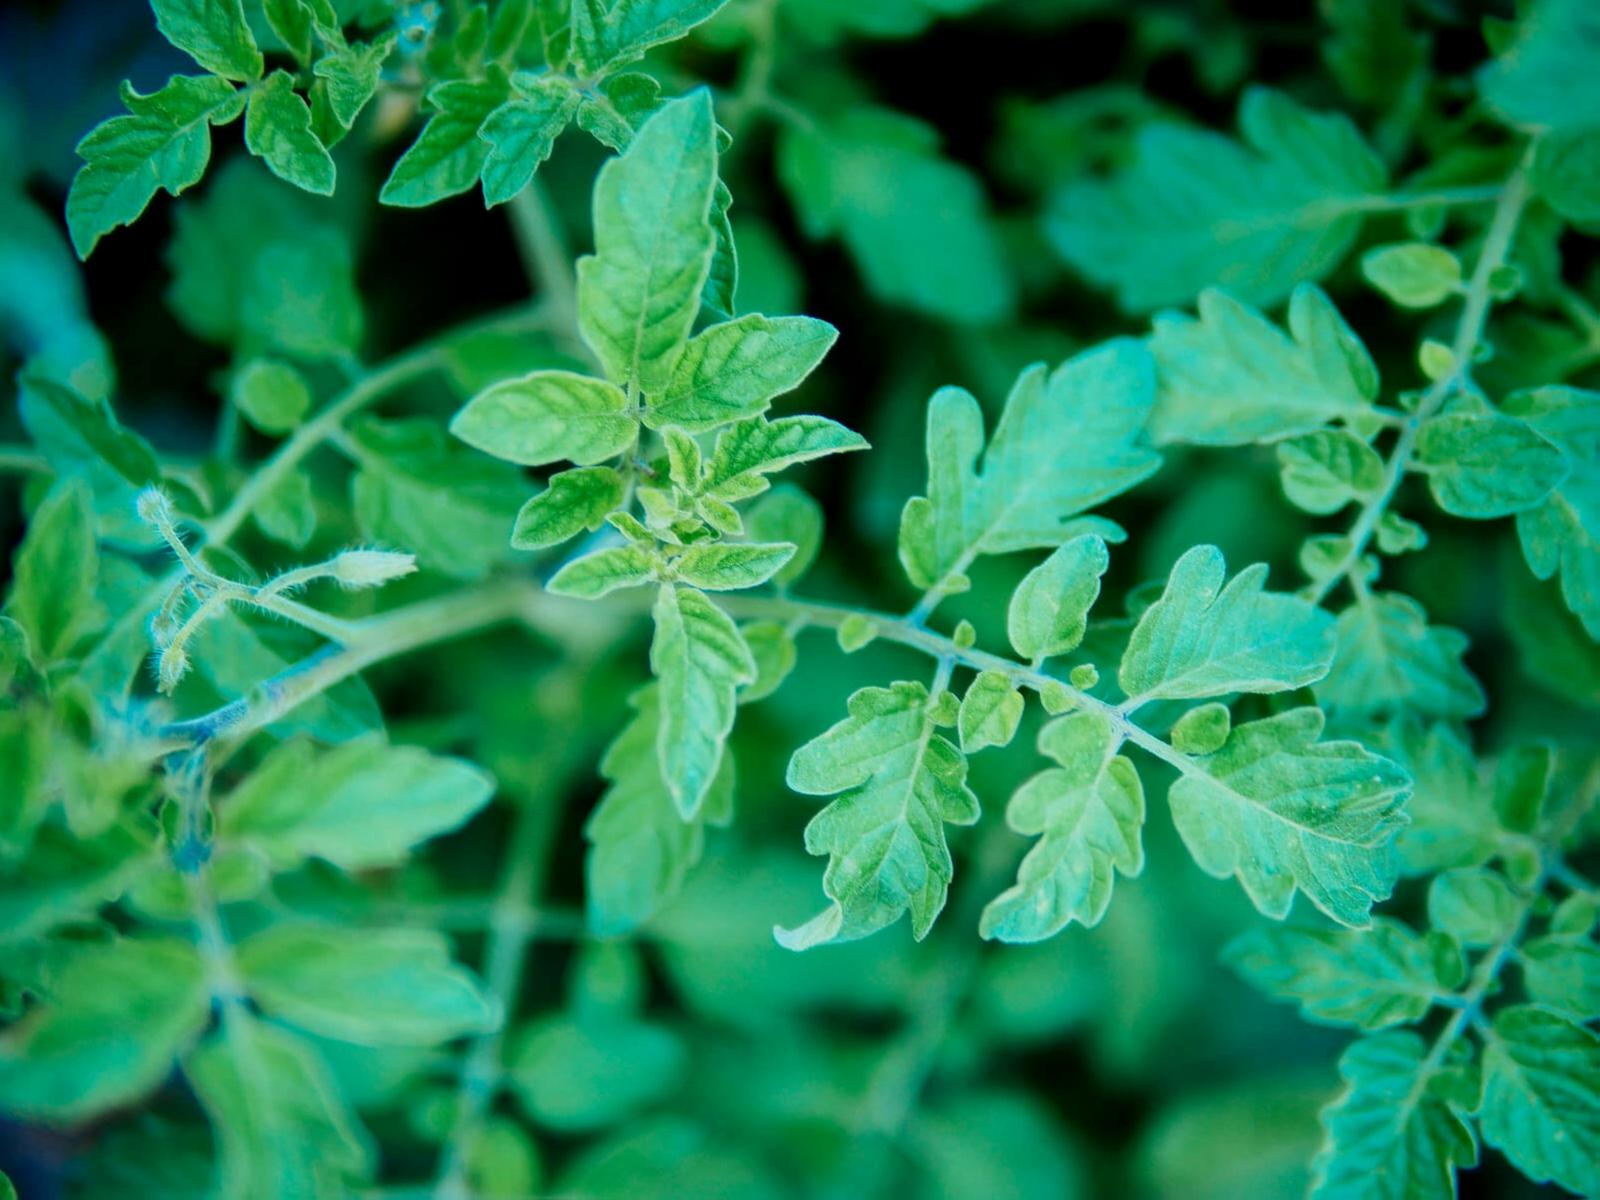Tomato leaf: (894, 330, 1156, 620), (775, 662, 981, 977), (1164, 703, 1417, 936), (579, 81, 709, 411), (1115, 543, 1355, 720), (998, 692, 1136, 992), (630, 302, 860, 436), (643, 571, 755, 824), (449, 373, 638, 473)
